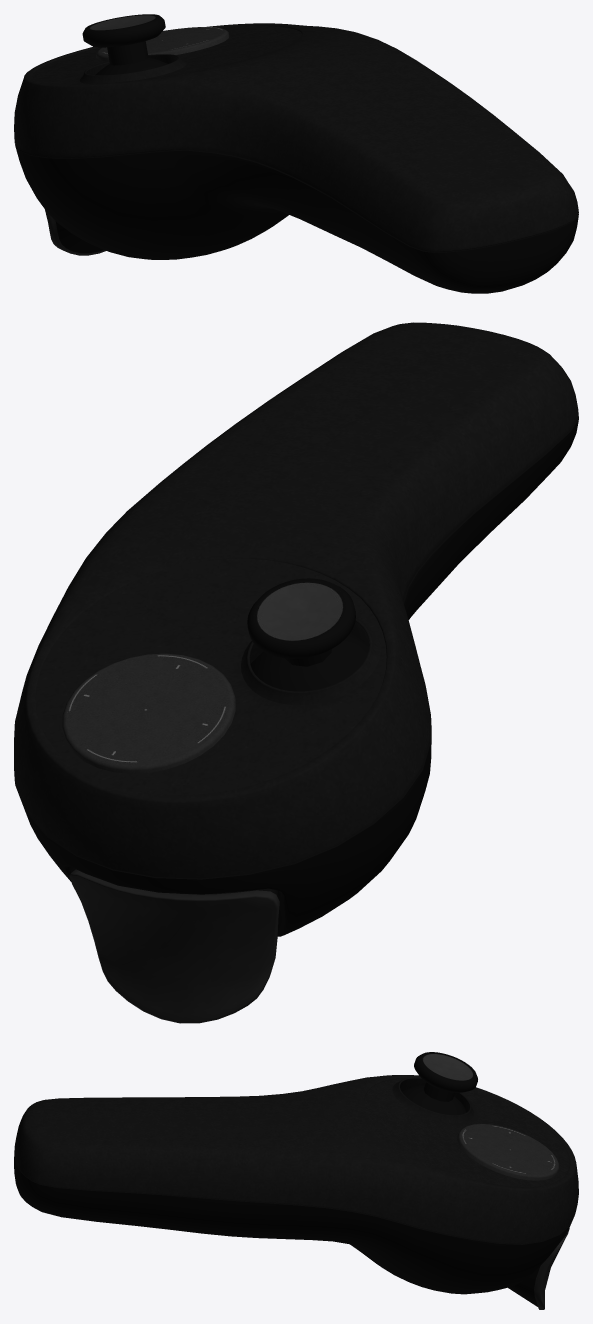
Rendered from generic-trigger-touchpad-thumbstick-R.glb.
3 views of the same model, one above another, from view 1: azimuth 30°, elevation 25°; view 2: azimuth 150°, elevation 25°; view 3: azimuth 270°, elevation 25° (orthographic). The views are drawn at different scales.
Parts seen in each view (by area): view 1: Body, Plate, ThumpStick, TouchPad_geo, trigger; view 2: Body, Plate, trigger, TouchPad_geo, ThumpStick; view 3: Body, Plate, TouchPad_geo, ThumpStick, trigger.
Part boxes in pixels (bbox=[...]): Body: bbox=[14, 23, 578, 293]; Plate: bbox=[32, 26, 301, 84]; ThumpStick: bbox=[82, 14, 167, 75]; TouchPad_geo: bbox=[96, 27, 229, 61]; trigger: bbox=[45, 210, 105, 255]; Body: bbox=[14, 322, 578, 936]; Plate: bbox=[35, 558, 386, 795]; trigger: bbox=[69, 869, 279, 1023]; TouchPad_geo: bbox=[62, 653, 235, 773]; ThumpStick: bbox=[247, 578, 369, 691]; Body: bbox=[14, 1075, 578, 1294]; Plate: bbox=[364, 1077, 569, 1187]; TouchPad_geo: bbox=[457, 1124, 559, 1180]; ThumpStick: bbox=[402, 1052, 477, 1114]; trigger: bbox=[508, 1228, 569, 1309].
Bounding box in the file's own units: 0.065 × 0.0594 × 0.1319.
1 material, 1 textured.
